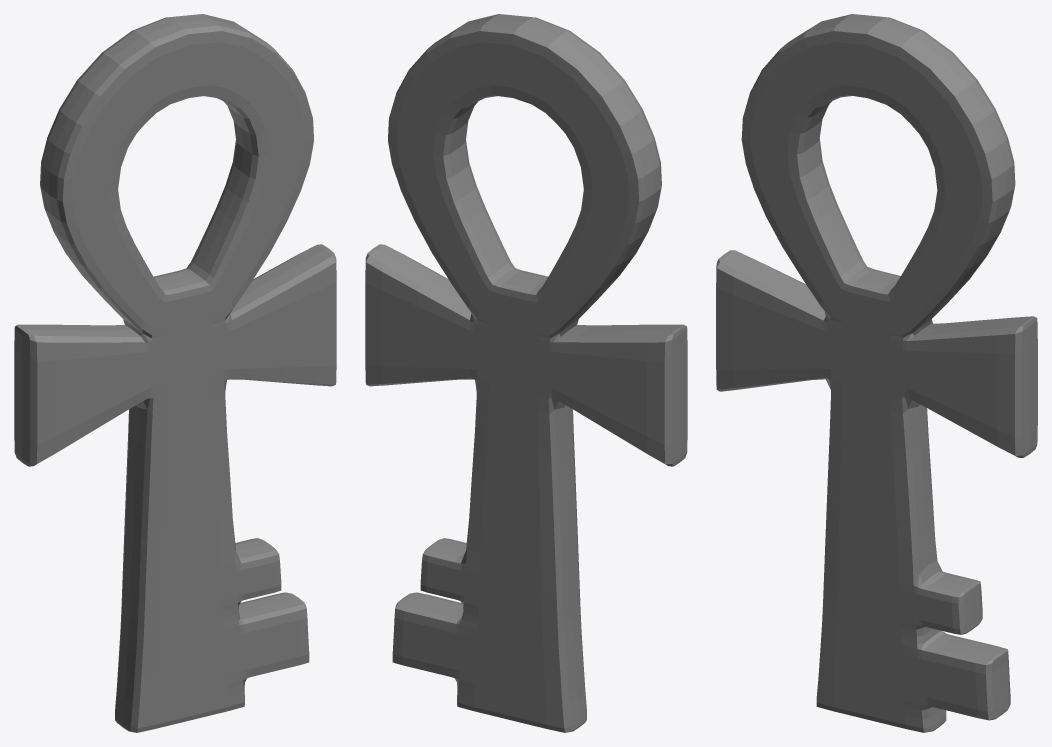
File: Ancient_Crypt_Key.fbx
The picture shows the model from 3 angles, left to right: view 1: azimuth 30°, elevation 25°; view 2: azimuth 150°, elevation 25°; view 3: azimuth 330°, elevation 25°; orthographic projection.
Visible parts, largest first — view 1: LP; view 2: LP; view 3: LP.
Part boxes in pixels (x1,y1,x2,y2): LP: (14, 14, 336, 732); LP: (365, 14, 687, 732); LP: (716, 14, 1037, 732).
Bounding box in the file's own units: 141 × 303 × 18.9.
